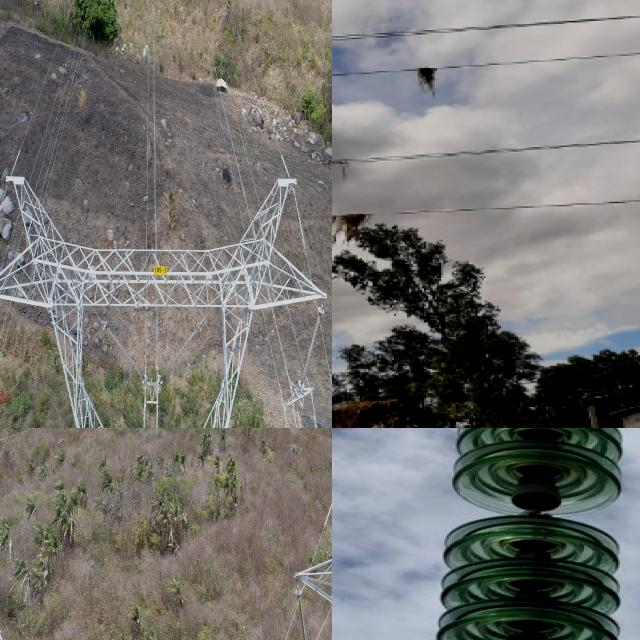杆塔: (0, 159, 332, 428), (0, 560, 81, 640)
植被遮挡: (410, 62, 447, 102)
正常绝缘子: (406, 428, 640, 640), (299, 305, 330, 398), (289, 575, 321, 640)
绝缘子破损: (511, 486, 564, 511)
